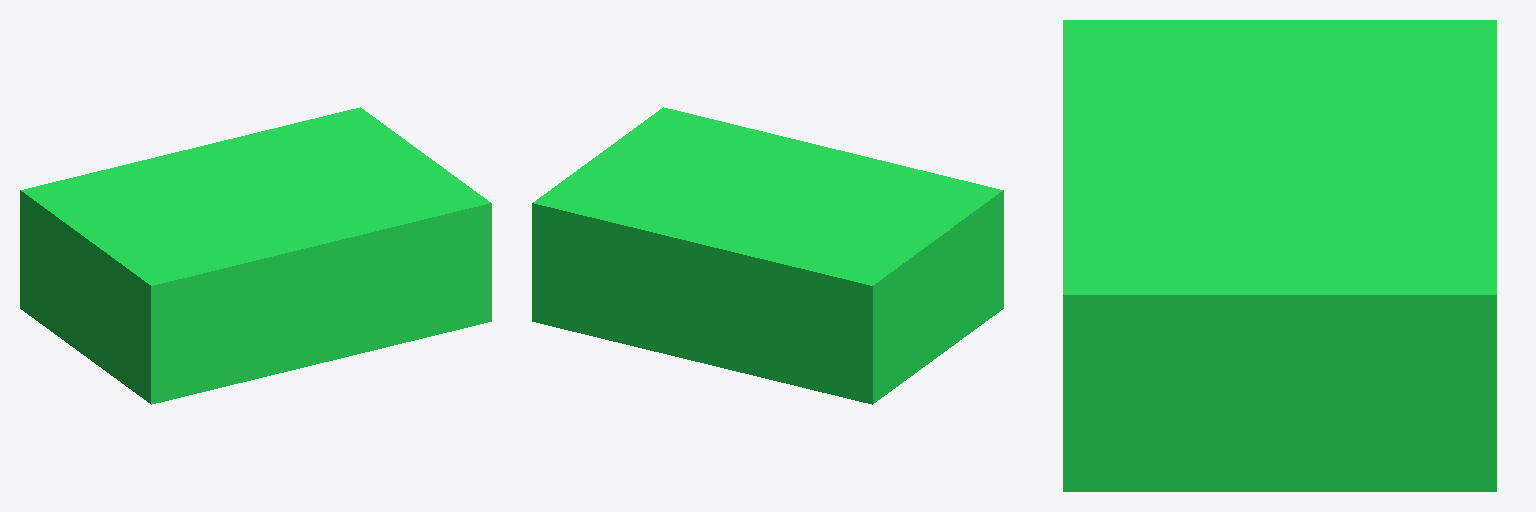
URDF robot description (trapezoid):
<?xml version='1.0' encoding='UTF-8'?>
<robot name="trapezoid">
  <link name="base_link">
    <inertial>
      <origin xyz="0.0 0.0 0.0" rpy="0.0 -0.0 0.0"/>
      <mass value="1.0"/>
      <inertia ixx="1.0" ixy="0.0" ixz="0.0" iyy="1.0" iyz="0.0" izz="1.0"/>
    </inertial>
    <visual name="base_link_visual">
      <geometry>
        <box size="1.134 0.756 0.378"/>
      </geometry>
      <origin xyz="0 0 0" rpy="0 0 0"/>
      <material name="object_color">
        <color rgba="0.2 0.95 0.4 1"/>
      </material>
    </visual>
    <collision name="base_link_collision">
      <geometry>
        <box size="1.134 0.756 0.378"/>
      </geometry>
      <origin xyz="0 0 0" rpy="0 0 0"/>
    </collision>
  </link>
</robot> 

--- Render facts (derived) ---
Views: 3 orthographic renders of the robot side by side, from view 1: azimuth 30°, elevation 25°; view 2: azimuth 150°, elevation 25°; view 3: azimuth 270°, elevation 25°.
Robot: trapezoid — 1 links, 0 joints (none); root link base_link; default pose: all joints at 0.
Visible links, largest first — view 1: base_link; view 2: base_link; view 3: base_link.
Boxes of the visible links, x1=… form: base_link: x1=20, y1=107, x2=491, y2=404; base_link: x1=532, y1=107, x2=1003, y2=404; base_link: x1=1063, y1=20, x2=1496, y2=491.
Bounding box of the posed robot: 1.13 × 0.756 × 0.378 m (x, y, z).
Geometry: primitives only (box / cylinder / sphere), no mesh files.
